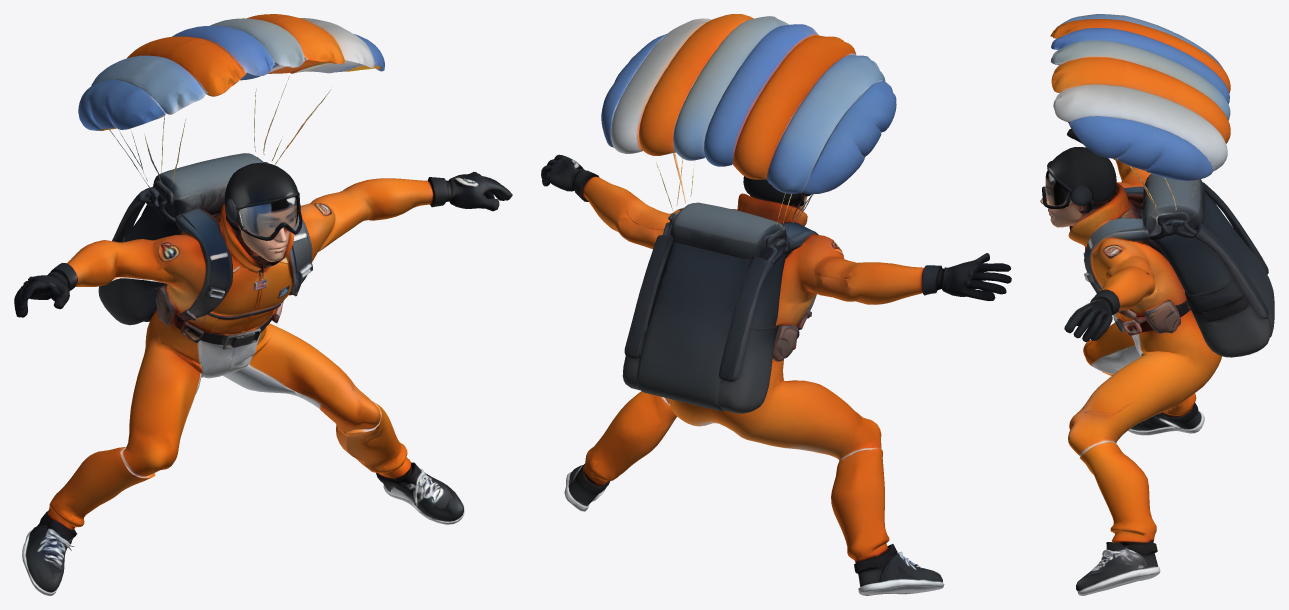
File: skydiver.glb
The picture shows the model from 3 angles, left to right: view 1: azimuth 30°, elevation 25°; view 2: azimuth 150°, elevation 25°; view 3: azimuth 270°, elevation 25°; orthographic projection. The views are drawn at different scales.
Visible parts, largest first — view 1: model; view 2: model; view 3: model.
Boxes of the visible parts, left/top/right/bottom form: model: left=14, top=14, right=512, bottom=595; model: left=541, top=14, right=1011, bottom=595; model: left=1040, top=14, right=1274, bottom=595.
Bounding box in the file's own units: 1.83 × 1.9 × 0.8467.
1 material, 1 textured.
